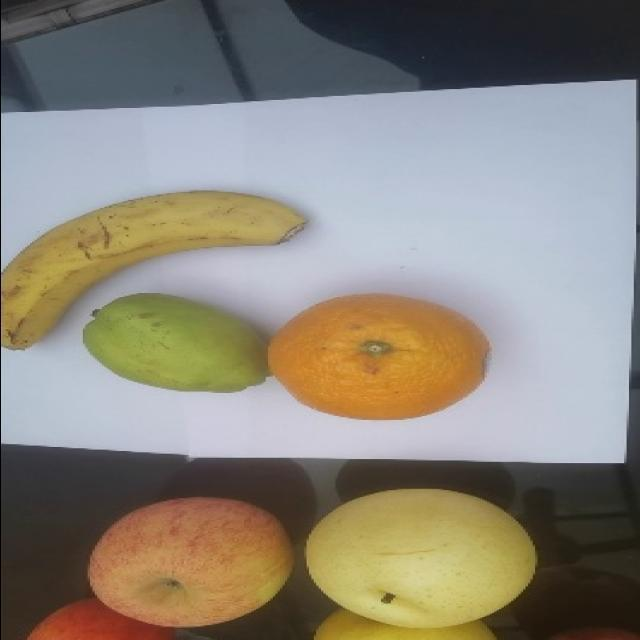Apple: (88, 497, 292, 627), (33, 589, 179, 640)
Banana: (0, 187, 302, 357)
Orange: (264, 290, 491, 420)
